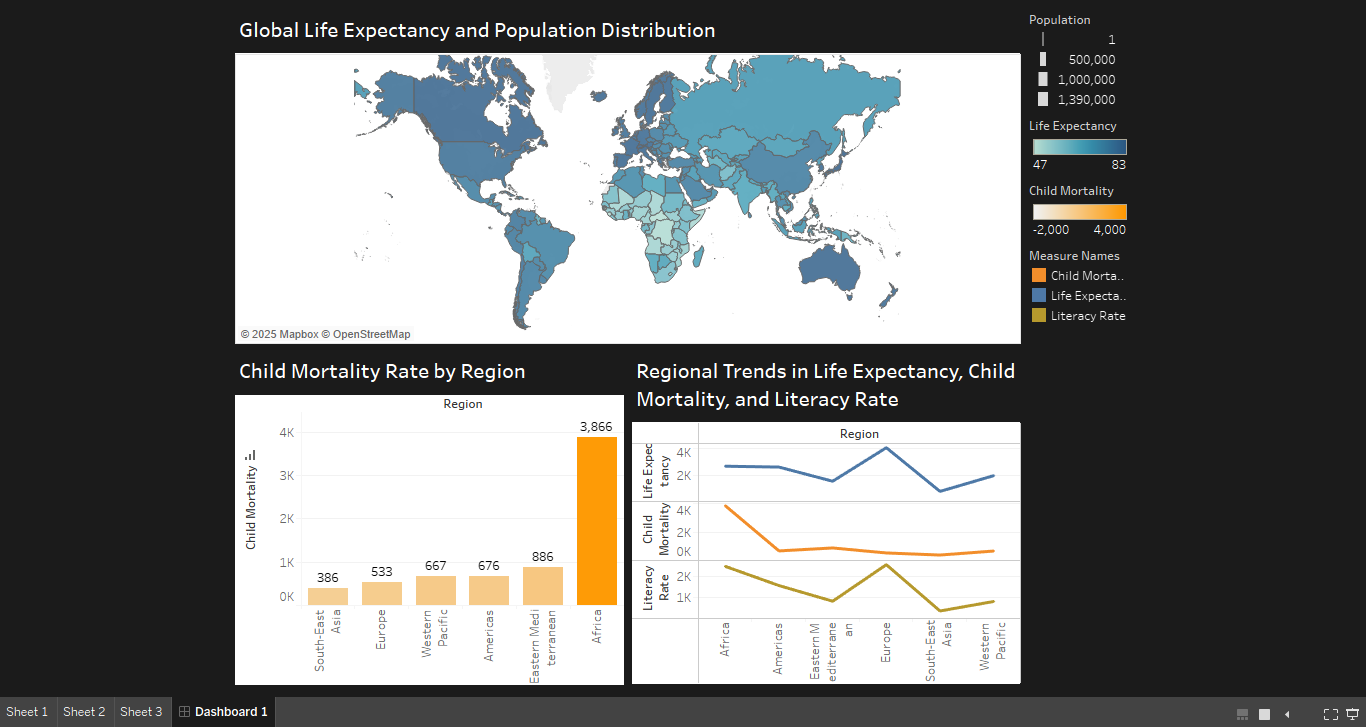

What the dashboard file says about the page in this screenshot:
{"tool":"tableau","page":{"name":"Dashboard 1","canvas":[1000,1000],"units":"permille","ordinal":0},"visuals":[{"type":"worksheet","title":"Sheet 1","mark":"Multipolygon","box":[8.7,12.1,863,487.9]},{"type":"legend","title":"Sheet 1","param":"[federated.1j1gcig15w5h7v17jorpa1q0bjry].[sum:Population:qk]","box":[871.7,12.1,119.6,160.6]},{"type":"legend","title":"Sheet 1","param":"[federated.1j1gcig15w5h7v17jorpa1q0bjry].[sum:LifeExpectancy:qk]","box":[871.7,172.7,119.6,98.5]},{"type":"legend","title":"Sheet 2","param":"[federated.1j1gcig15w5h7v17jorpa1q0bjry].[sum:ChildMortality:qk]","box":[871.7,271.2,119.6,98.5]},{"type":"legend","title":"Sheet 3","param":"[federated.1j1gcig15w5h7v17jorpa1q0bjry].[:Measure Names]","box":[871.7,369.7,119.6,130.3]},{"type":"worksheet","title":"Sheet 2","mark":"Bar","rows":["ChildMortality"],"cols":["Region"],"box":[8.7,500,431.5,487.9]},{"type":"worksheet","title":"Sheet 3","mark":"Line","rows":["LifeExpectancy","ChildMortality","LiteracyRate"],"cols":["Region"],"box":[440.2,500,431.5,487.9]},{"type":"text","box":[871.7,500,119.6,330.3]}]}

Visuals, with their boxes on the dashboard's canvas, which has no fixed pixel size, in thousandths of its width and height (x1, y1, x2, y2). These are canvas units, not pixel positions in the 1366x727 screenshot, which may show the page scaled, cropped or inside an application window:
"Sheet 1" worksheet (Multipolygon marks): pyautogui.locateOnScreen(9, 12, 872, 500)
"Sheet 1" legend: pyautogui.locateOnScreen(872, 12, 991, 173)
"Sheet 1" legend: pyautogui.locateOnScreen(872, 173, 991, 271)
"Sheet 2" legend: pyautogui.locateOnScreen(872, 271, 991, 370)
"Sheet 3" legend: pyautogui.locateOnScreen(872, 370, 991, 500)
"Sheet 2" worksheet (Bar marks): pyautogui.locateOnScreen(9, 500, 440, 988)
"Sheet 3" worksheet (Line marks): pyautogui.locateOnScreen(440, 500, 872, 988)
text: pyautogui.locateOnScreen(872, 500, 991, 830)
